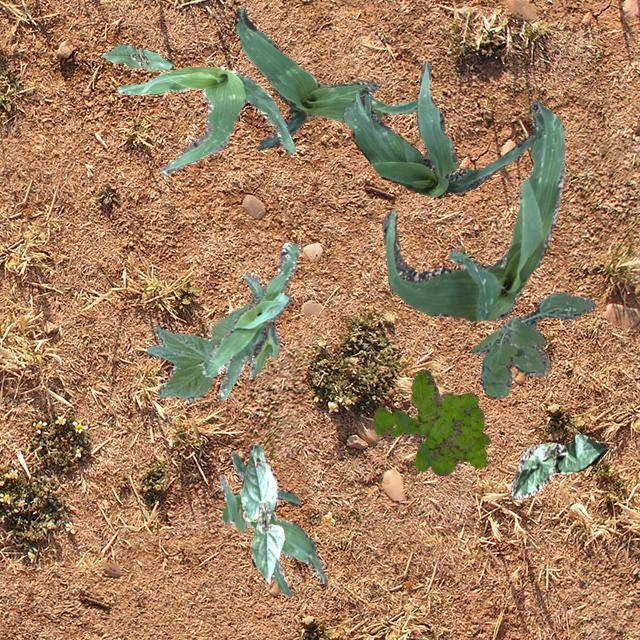crop: (382, 100, 564, 320), (342, 60, 542, 196), (232, 8, 418, 148), (116, 64, 294, 176), (218, 451, 326, 596), (202, 242, 300, 399), (146, 302, 264, 398), (238, 442, 284, 582), (509, 432, 606, 498), (100, 44, 172, 70)
weed: (469, 290, 594, 398), (374, 368, 489, 474)
